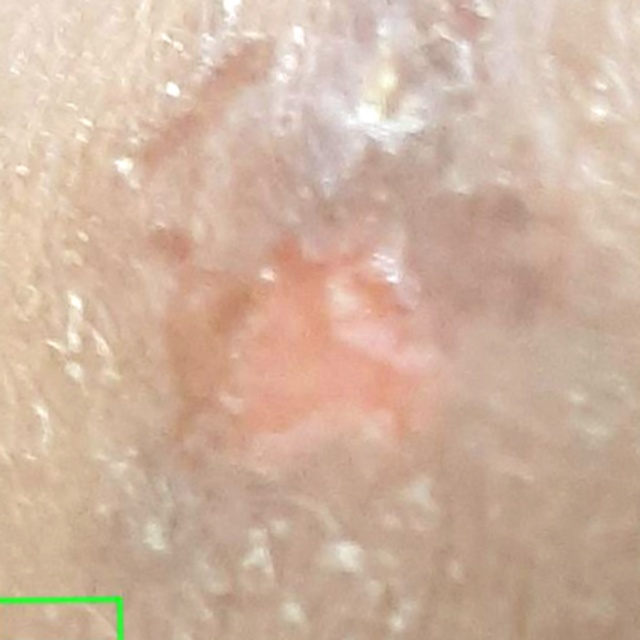Eczema: (0, 599, 120, 639)
